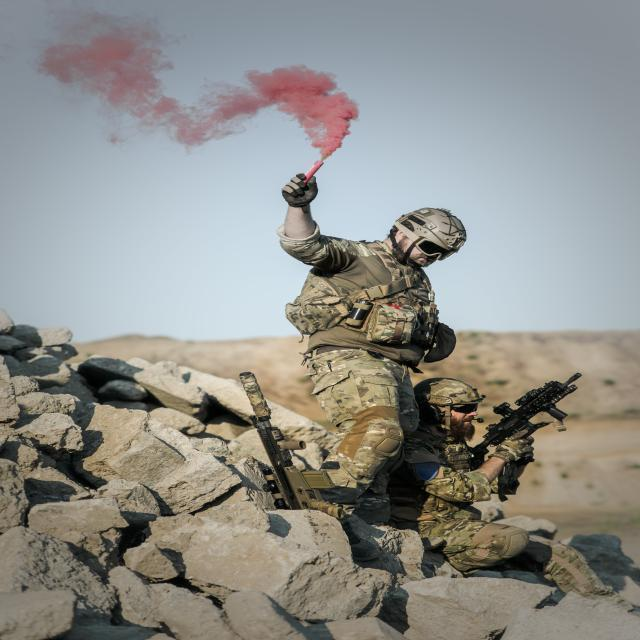Gun: (239, 372, 335, 510), (478, 373, 582, 450)
